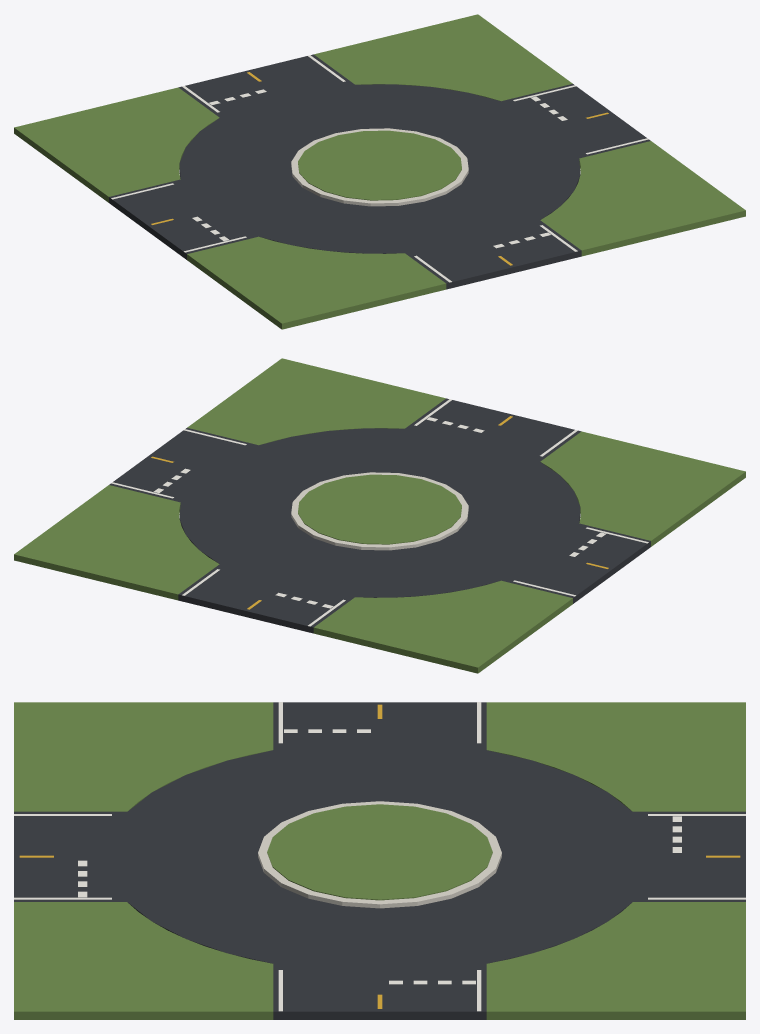
The model's file is Road_2Lane_NoSidewalk_Intersection_Roundabout.glb.
The picture shows the model from 3 angles, top to bottom: view 1: azimuth 30°, elevation 25°; view 2: azimuth 150°, elevation 25°; view 3: azimuth 270°, elevation 25°; orthographic projection. The views are drawn at different scales.
Parts seen in each view (by area): view 1: Road_2Lane_NoSidewalk_Intersection_Roundabout_Asphalt, Road_2Lane_NoSidewalk_Intersection_Roundabout_Grass-edge, Road_2Lane_NoSidewalk_Intersection_Roundabout_Curb, Road_2Lane_NoSidewalk_Intersection_Roundabout_PaintWhite; view 2: Road_2Lane_NoSidewalk_Intersection_Roundabout_Asphalt, Road_2Lane_NoSidewalk_Intersection_Roundabout_Grass-edge, Road_2Lane_NoSidewalk_Intersection_Roundabout_Curb, Road_2Lane_NoSidewalk_Intersection_Roundabout_PaintWhite; view 3: Road_2Lane_NoSidewalk_Intersection_Roundabout_Asphalt, Road_2Lane_NoSidewalk_Intersection_Roundabout_Grass-edge, Road_2Lane_NoSidewalk_Intersection_Roundabout_Curb, Road_2Lane_NoSidewalk_Intersection_Roundabout_PaintWhite.
Part boxes in pixels (x1,y1,x2,y2): Road_2Lane_NoSidewalk_Intersection_Roundabout_Asphalt: [109, 54, 650, 289]; Road_2Lane_NoSidewalk_Intersection_Roundabout_Grass-edge: [14, 14, 745, 329]; Road_2Lane_NoSidewalk_Intersection_Roundabout_Curb: [291, 128, 468, 206]; Road_2Lane_NoSidewalk_Intersection_Roundabout_PaintWhite: [111, 55, 648, 282]; Road_2Lane_NoSidewalk_Intersection_Roundabout_Asphalt: [109, 398, 650, 633]; Road_2Lane_NoSidewalk_Intersection_Roundabout_Grass-edge: [14, 358, 745, 673]; Road_2Lane_NoSidewalk_Intersection_Roundabout_Curb: [291, 472, 468, 550]; Road_2Lane_NoSidewalk_Intersection_Roundabout_PaintWhite: [111, 399, 648, 626]; Road_2Lane_NoSidewalk_Intersection_Roundabout_Asphalt: [14, 702, 745, 1019]; Road_2Lane_NoSidewalk_Intersection_Roundabout_Grass-edge: [14, 702, 745, 1019]; Road_2Lane_NoSidewalk_Intersection_Roundabout_Curb: [258, 801, 501, 908]; Road_2Lane_NoSidewalk_Intersection_Roundabout_PaintWhite: [14, 702, 745, 1011].
Size of the model in its own units: 24 by 0.48 by 24.
